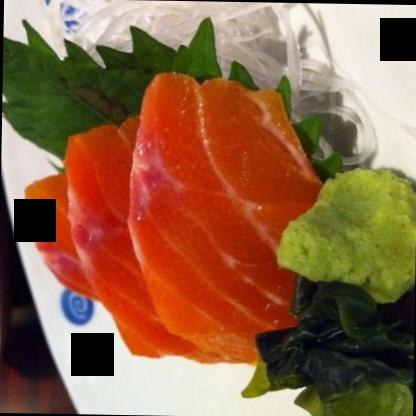salmon: (36, 76, 304, 361)
